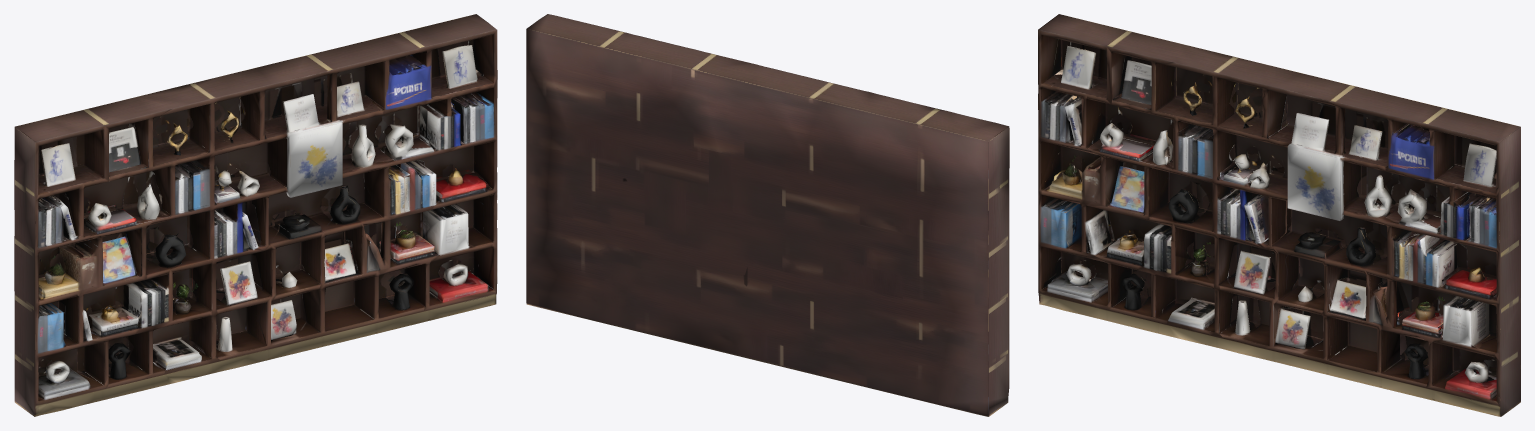
The model's file is koridorkitaplık.fbx.
3 renders of one model, left to right at view 1: azimuth 30°, elevation 25°; view 2: azimuth 150°, elevation 25°; view 3: azimuth 330°, elevation 25°, orthographic.
Parts seen in each view (by area): view 1: Mesh_0; view 2: Mesh_0; view 3: Mesh_0.
Boxes of the visible parts, box(x1,y1,x2,y2) form: Mesh_0: box(14, 14, 497, 416); Mesh_0: box(526, 14, 1009, 416); Mesh_0: box(1038, 14, 1520, 416).
Bounding box in the file's own units: 191 × 109 × 16.89.
1 material, 1 textured.
